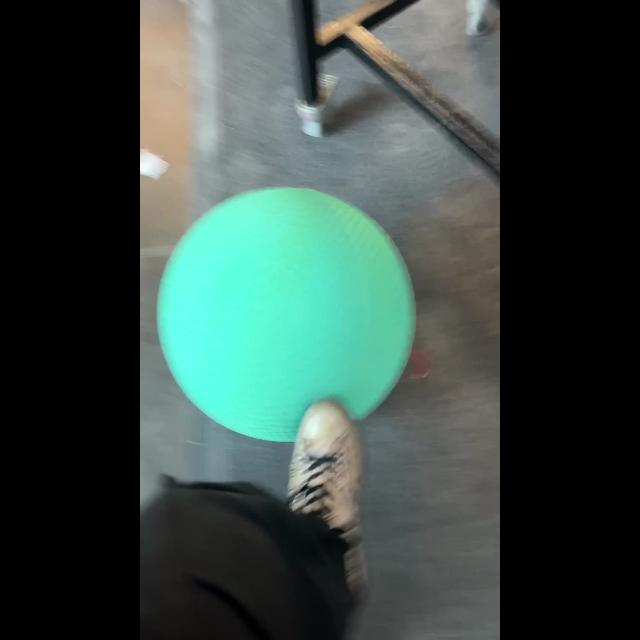ALGAE: (156, 185, 417, 443)
